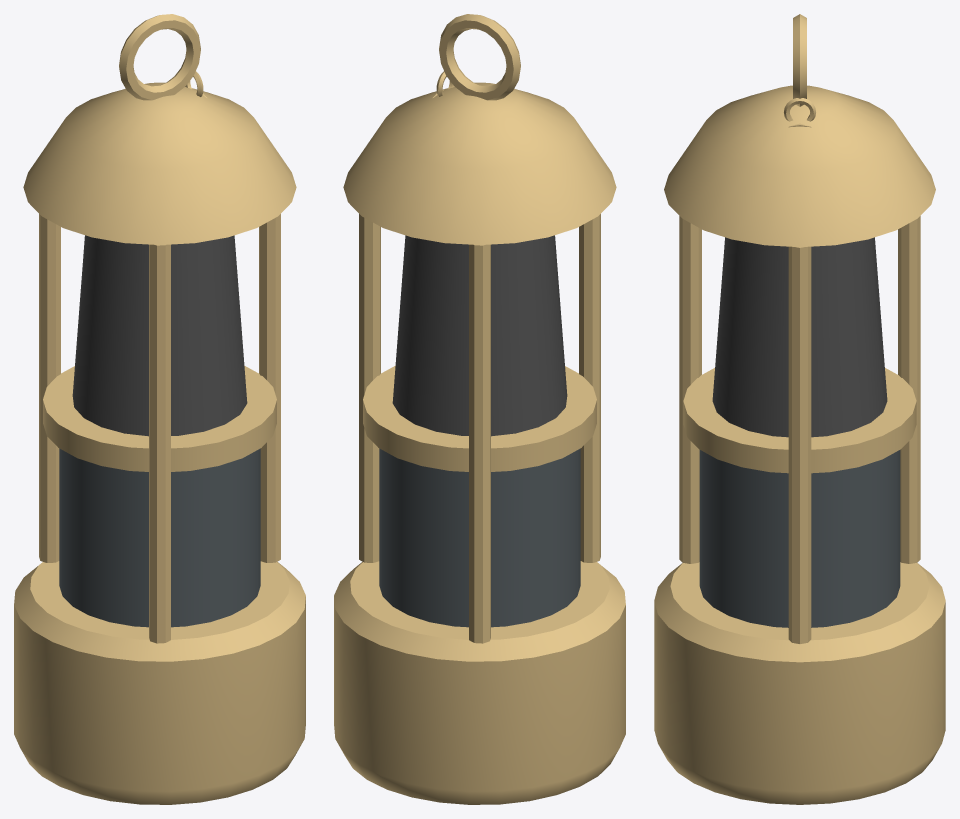
File: deputy_lamp.glb
The picture shows the model from 3 angles, left to right: view 1: azimuth 30°, elevation 25°; view 2: azimuth 150°, elevation 25°; view 3: azimuth 270°, elevation 25°; orthographic projection.
Visible parts, largest first — view 1: body; view 2: body; view 3: body.
Boxes of the visible parts, x1,y1,x2,y2 form: body: (14,14,305,804); body: (334,14,625,804); body: (654,14,945,804).
Size of the model in its own units: 0.09 by 0.2485 by 0.09.
